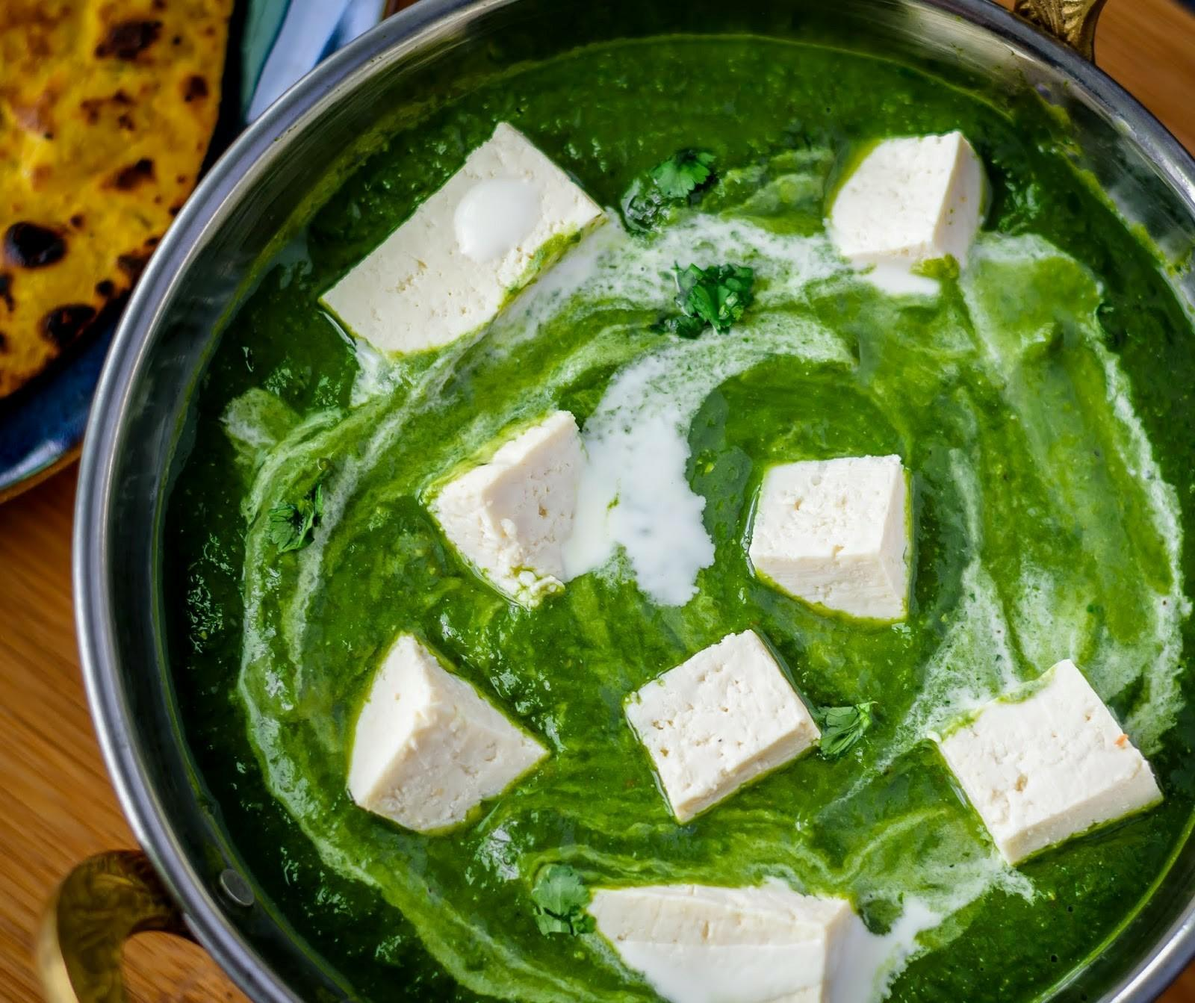PalakPaneer: (163, 25, 1188, 1003)
